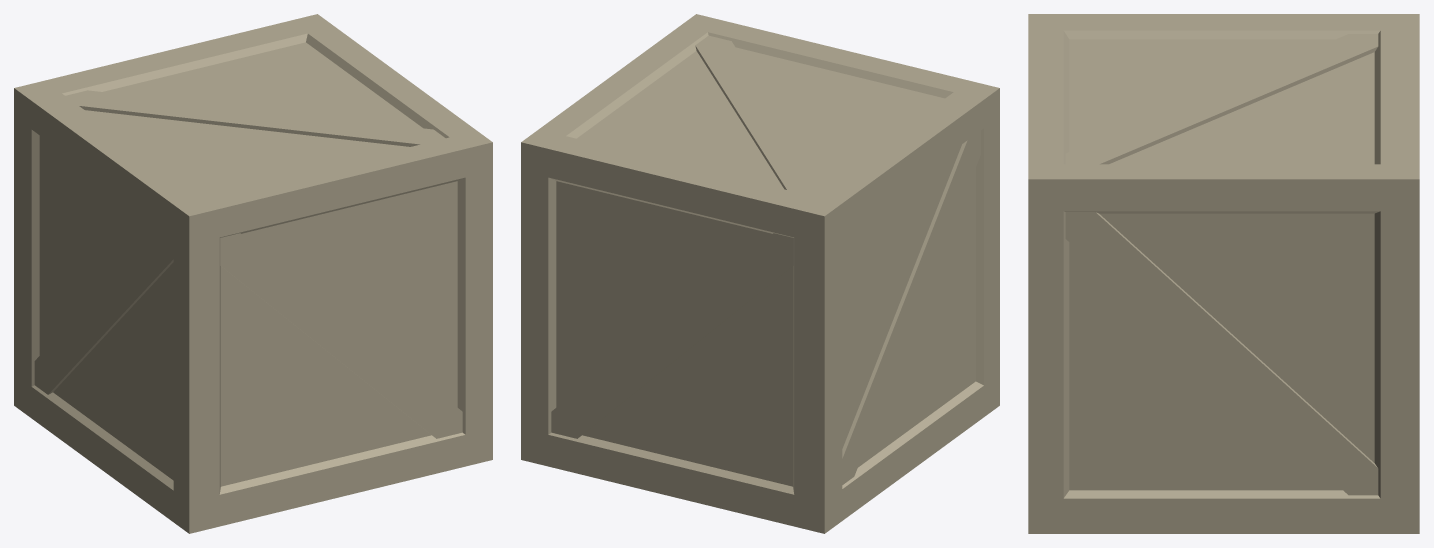
The model's file is Crate.fbx.
3 views of the same model, side by side, from view 1: azimuth 30°, elevation 25°; view 2: azimuth 150°, elevation 25°; view 3: azimuth 270°, elevation 25° (orthographic). The views are drawn at different scales.
Visible parts, largest first — view 1: pCube6; view 2: pCube6; view 3: pCube6.
Part boxes in pixels (<box>): pCube6: <box>14,14,492,533</box>; pCube6: <box>521,14,999,533</box>; pCube6: <box>1028,14,1419,533</box>.
Size of the model in its own units: 5.4 by 5.4 by 5.4.
